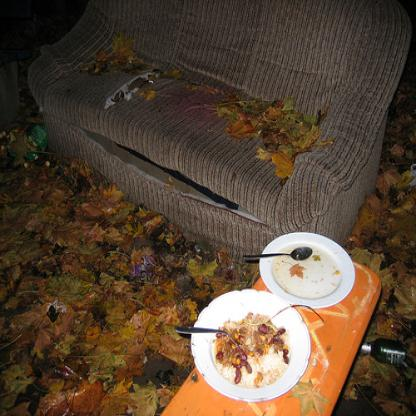bottle: (359, 337, 415, 367)
sofa: (27, 0, 414, 268)
